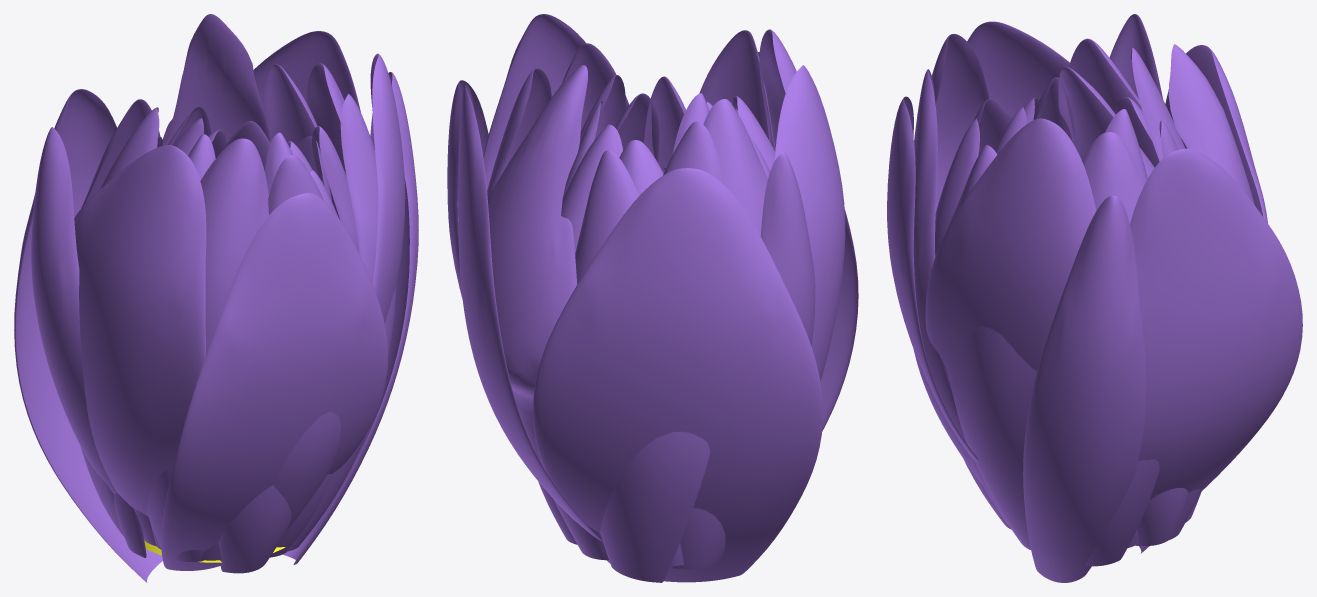
File: lotus-working.glb
3 views of the same model, side by side, from view 1: azimuth 30°, elevation 25°; view 2: azimuth 150°, elevation 25°; view 3: azimuth 270°, elevation 25° (orthographic). The views are drawn at different scales.
Visible parts, largest first — view 1: Mesh_78.002, Mesh_73.002, Mesh_76.002, Mesh_48.002, Mesh_74.002, Mesh_80.002, Mesh_72.002, Mesh_50.002, Mesh_63.002, Mesh_64.002, Mesh_70.002, Mesh_56.002 (+13 smaller); view 2: Mesh_76.002, Mesh_80.002, Mesh_61.002, Mesh_56.002, Mesh_73.002, Mesh_65.002, Mesh_48.002, Mesh_72.002, Mesh_66.002, Mesh_64.002, Mesh_78.002, Mesh_62.002 (+11 smaller); view 3: Mesh_56.002, Mesh_50.002, Mesh_72.002, Mesh_63.002, Mesh_64.002, Mesh_78.002, Mesh_62.002, Mesh_80.002, Mesh_73.002, Mesh_74.002, Mesh_83.002, Mesh_76.002 (+9 smaller).
Boxes of the visible parts, bbox=[...] form: Mesh_78.002: bbox=[161, 193, 388, 570]; Mesh_73.002: bbox=[74, 145, 206, 516]; Mesh_76.002: bbox=[14, 89, 162, 582]; Mesh_48.002: bbox=[31, 127, 116, 493]; Mesh_74.002: bbox=[200, 138, 268, 354]; Mesh_80.002: bbox=[162, 14, 269, 145]; Mesh_72.002: bbox=[370, 53, 405, 323]; Mesh_50.002: bbox=[283, 72, 418, 564]; Mesh_63.002: bbox=[286, 93, 396, 551]; Mesh_64.002: bbox=[268, 155, 340, 532]; Mesh_70.002: bbox=[218, 195, 291, 573]; Mesh_56.002: bbox=[253, 31, 360, 112]; Mesh_76.002: bbox=[533, 168, 822, 582]; Mesh_80.002: bbox=[488, 65, 608, 560]; Mesh_61.002: bbox=[601, 121, 724, 582]; Mesh_56.002: bbox=[458, 83, 602, 541]; Mesh_73.002: bbox=[774, 65, 845, 380]; Mesh_65.002: bbox=[671, 99, 767, 569]; Mesh_48.002: bbox=[760, 151, 815, 345]; Mesh_72.002: bbox=[483, 14, 585, 190]; Mesh_66.002: bbox=[575, 150, 638, 538]; Mesh_64.002: bbox=[699, 30, 775, 151]; Mesh_78.002: bbox=[758, 52, 858, 431]; Mesh_62.002: bbox=[487, 68, 551, 200]; Mesh_56.002: bbox=[1130, 148, 1302, 500]; Mesh_50.002: bbox=[1023, 195, 1146, 582]; Mesh_72.002: bbox=[925, 118, 1096, 371]; Mesh_63.002: bbox=[948, 326, 1036, 549]; Mesh_64.002: bbox=[913, 69, 981, 483]; Mesh_78.002: bbox=[887, 96, 978, 461]; Mesh_62.002: bbox=[1082, 132, 1159, 566]; Mesh_80.002: bbox=[1168, 44, 1254, 539]; Mesh_73.002: bbox=[967, 21, 1069, 117]; Mesh_74.002: bbox=[932, 34, 989, 212]; Mesh_83.002: bbox=[1105, 109, 1188, 545]; Mesh_76.002: bbox=[1139, 45, 1267, 553].
Size of the model in its own units: 5.74 by 7.41 by 5.33.
3 materials, 2 textured.
